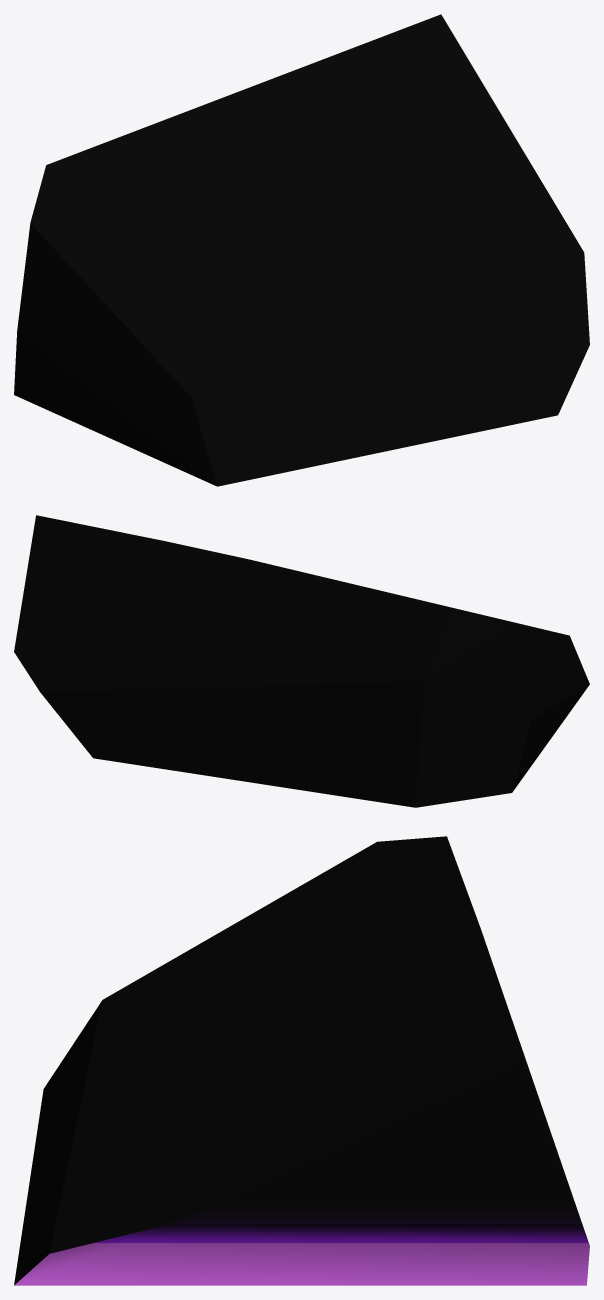
Rendered from blockParticle_4.obj.
3 renders of one model, top to bottom at view 1: azimuth 30°, elevation 25°; view 2: azimuth 150°, elevation 25°; view 3: azimuth 270°, elevation 25°, orthographic. The views are drawn at different scales.
Parts seen in each view (by area): view 1: 立方体_cell.005; view 2: 立方体_cell.005; view 3: 立方体_cell.005.
Boxes of the visible parts, bbox=[...] form: 立方体_cell.005: bbox=[14, 14, 589, 486]; 立方体_cell.005: bbox=[14, 515, 589, 807]; 立方体_cell.005: bbox=[14, 836, 589, 1285].
Bounding box in the file's own units: 1.15 × 0.5127 × 0.9585.
Materials: 2 (2 with a texture image).
